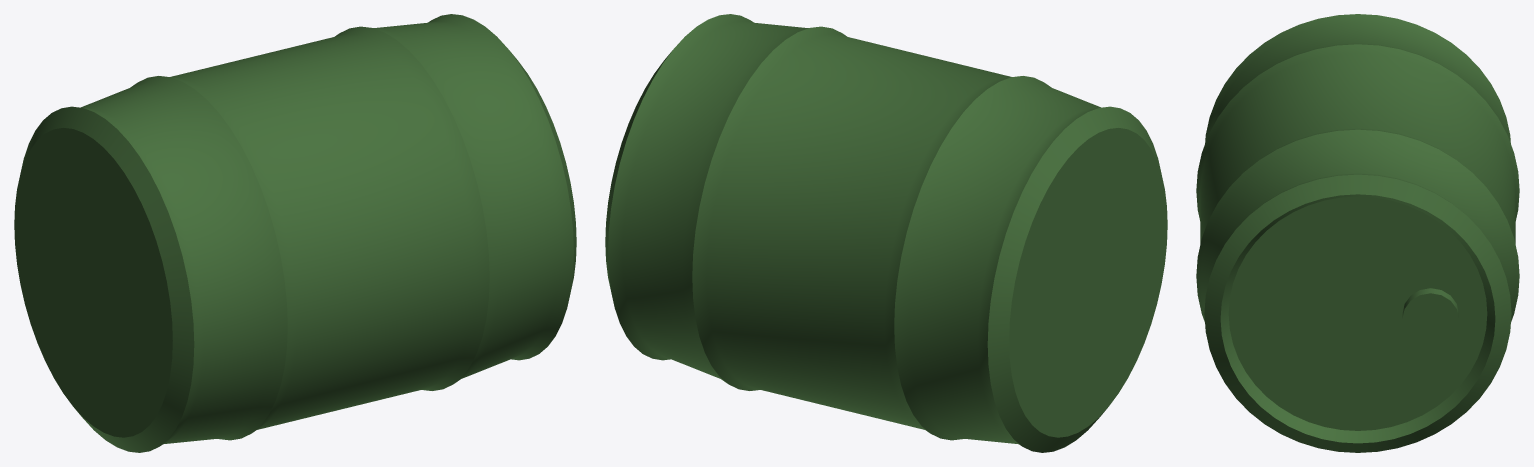
File: GasBarrel.fbx
The picture shows the model from 3 angles, left to right: view 1: azimuth 30°, elevation 25°; view 2: azimuth 150°, elevation 25°; view 3: azimuth 270°, elevation 25°; orthographic projection. The views are drawn at different scales.
Visible parts, largest first — view 1: GasBarrel; view 2: GasBarrel; view 3: GasBarrel.
Part boxes in pixels (x1=…): GasBarrel: x1=14, y1=14, x2=576, y2=452; GasBarrel: x1=605, y1=14, x2=1167, y2=452; GasBarrel: x1=1196, y1=14, x2=1519, y2=452.
Size of the model in its own units: 5 by 4 by 4.
